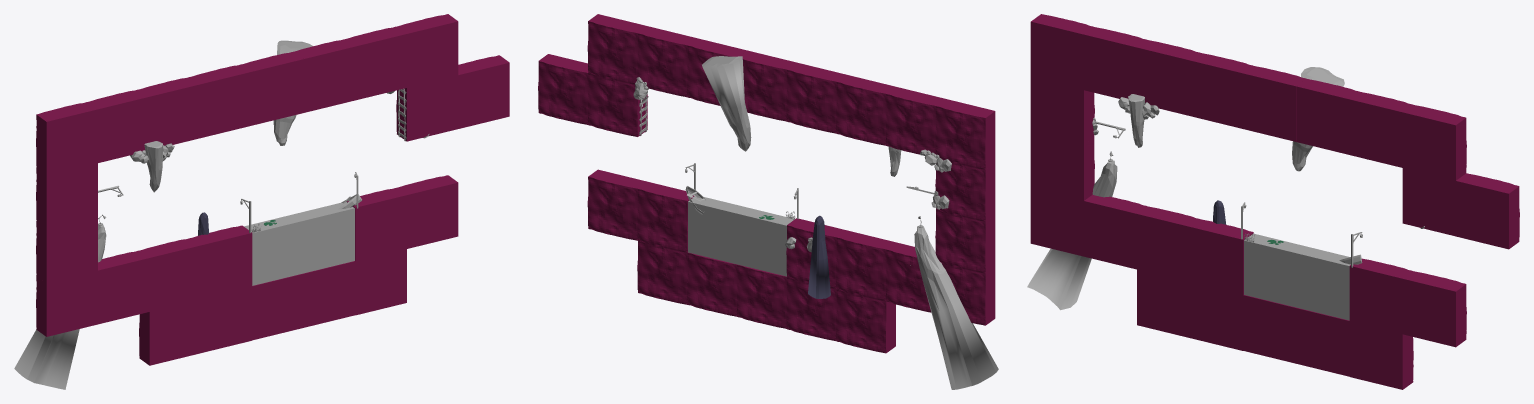
Rendered from TestScene 1.fbx.
3 views of the same model, side by side, from view 1: azimuth 30°, elevation 25°; view 2: azimuth 150°, elevation 25°; view 3: azimuth 330°, elevation 25° (orthographic). The views are drawn at different scales.
Visible parts, largest first — view 1: pCube36, pCube48, pCube40, pCube41, pCube58, pCube50, pCube54, pCube4, pCube55, pCube73, pCube53, Tile1:pCube3 (+15 smaller); view 2: pCube36, pCube5, pCube48, pCube41, pCube4, pCube51, pCube73, pCube58, pCube53, pCube59, pCube77, pCube57 (+15 smaller); view 3: pCube36, pCube58, pCube57, pCube53, pCube41, pCube4, pCube54, pCube73, pCube50, pCube48, pCube55, pCube76 (+15 smaller).
Part boxes in pixels (x1,y1,x2,y2): pCube36: [244, 202, 354, 285]; pCube48: [36, 102, 97, 175]; pCube40: [36, 270, 97, 336]; pCube41: [36, 217, 97, 282]; pCube58: [397, 175, 458, 248]; pCube50: [242, 51, 303, 125]; pCube54: [345, 26, 406, 100]; pCube4: [191, 64, 252, 137]; pCube55: [294, 39, 355, 112]; pCube73: [139, 238, 200, 311]; pCube53: [397, 14, 458, 87]; Tile1:pCube3: [191, 225, 252, 299]; pCube36: [688, 197, 794, 276]; pCube5: [914, 226, 998, 389]; pCube48: [935, 99, 995, 169]; pCube41: [935, 209, 995, 273]; pCube4: [786, 62, 845, 133]; pCube51: [836, 74, 895, 145]; pCube73: [836, 230, 895, 301]; pCube58: [587, 169, 646, 240]; pCube53: [587, 14, 647, 84]; pCube59: [637, 181, 694, 252]; pCube77: [836, 289, 895, 353]; pCube57: [538, 54, 588, 124]; pCube36: [1244, 233, 1350, 320]; pCube58: [1402, 271, 1466, 347]; pCube57: [1455, 173, 1519, 249]; pCube53: [1402, 104, 1466, 180]; pCube41: [1030, 133, 1094, 200]; pCube4: [1190, 53, 1253, 128]; pCube54: [1349, 92, 1412, 167]; pCube73: [1137, 206, 1200, 282]; pCube50: [1243, 66, 1306, 141]; pCube48: [1030, 14, 1093, 89]; pCube55: [1296, 79, 1359, 154]; pCube76: [1349, 321, 1413, 389].
Size of the model in its own units: 7454 by 4250 by 953.
